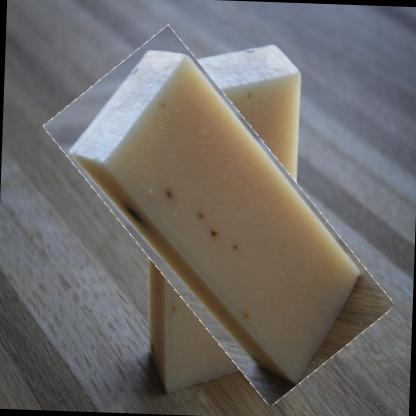soap: (83, 27, 355, 405)
